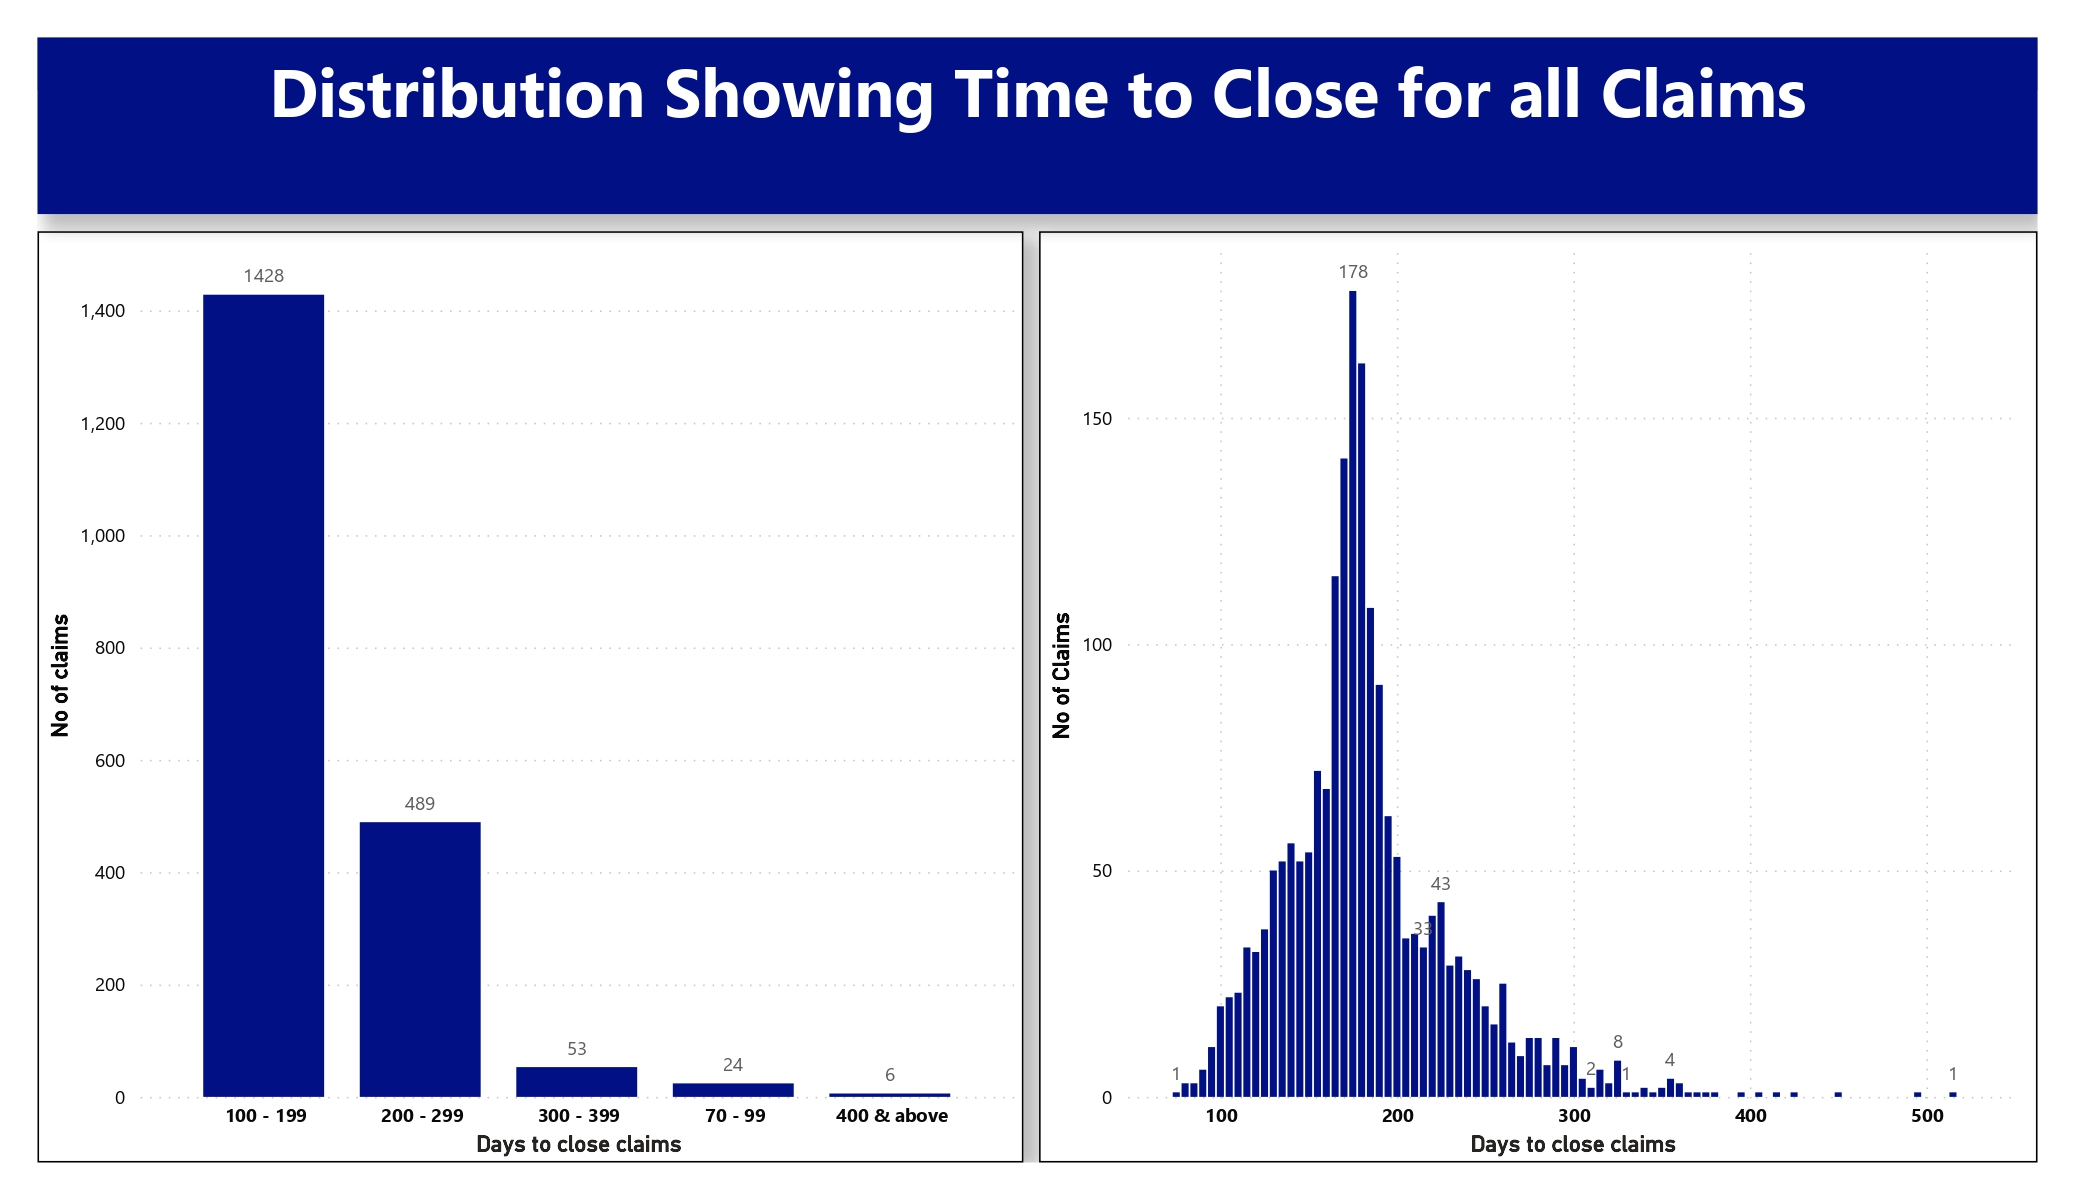

The page's visual inventory and layout, read from the dashboard file:
{"tool":"powerbi","page":{"name":"Distribution of claims","canvas":[1280,720],"ordinal":1},"visuals":[{"type":"clusteredColumnChart","fields":{"Y":["CountNonNull(food_claims_2212.time_to_close)"],"Category":["food_claims_2212.Custom"]},"box":[0,124.5,630.7,595.4],"z":0},{"type":"clusteredColumnChart","fields":{"Y":["CountNonNull(food_claims_2212.time_to_close)"],"Category":["food_claims_2212.time_to_close (bins)"]},"box":[640.8,124.5,639.2,595.4],"z":1000},{"type":"textbox","box":[0,0,1280,112.7],"z":2000}]}

Visuals, with their boxes in screenshot pixels (x1, y1, x2, y2):
clusteredColumnChart - CountNonNull(food_claims_2212.time_to_close) x food_claims_2212.Custom: [38, 232, 1023, 1162]
clusteredColumnChart - CountNonNull(food_claims_2212.time_to_close) x food_claims_2212.time_to_close (bins): [1039, 232, 2038, 1162]
textbox: [38, 38, 2038, 214]
